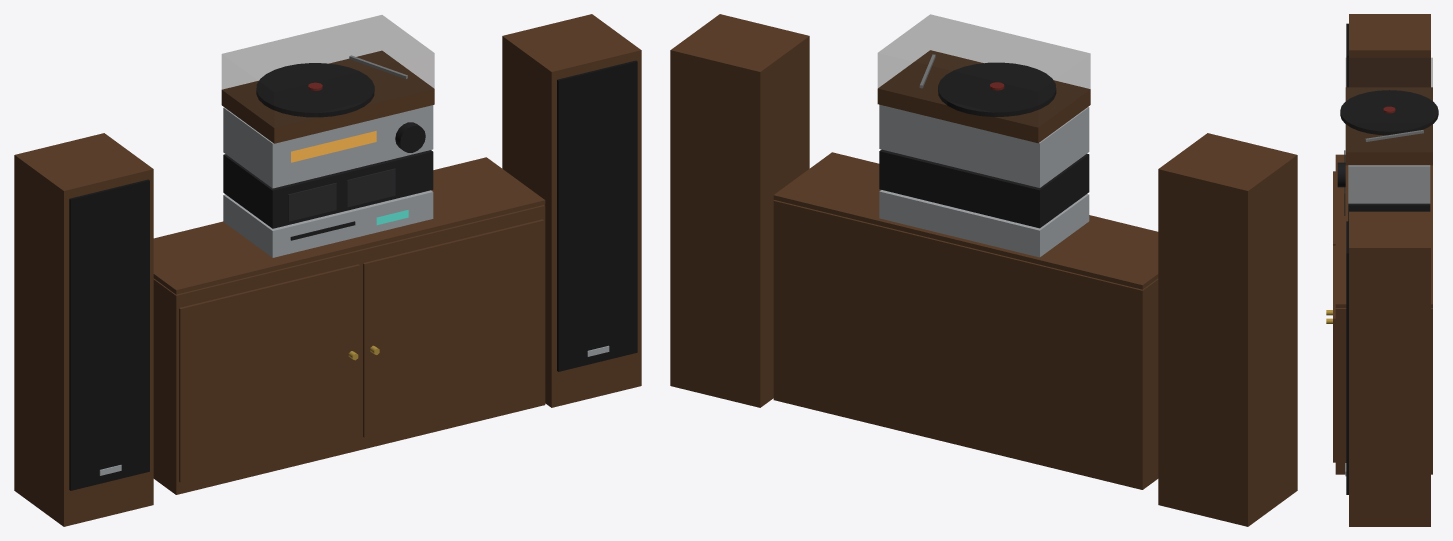
Rendered from stereo.glb.
3 renders of one model, left to right at view 1: azimuth 30°, elevation 25°; view 2: azimuth 150°, elevation 25°; view 3: azimuth 270°, elevation 25°, orthographic. The views are drawn at different scales.
Visible parts, largest first — view 1: stereo; view 2: stereo; view 3: stereo.
Boxes of the visible parts, <box> form: stereo: <box>14,14,641,526</box>; stereo: <box>670,14,1297,526</box>; stereo: <box>1326,14,1438,526</box>.
Bounding box in the file's own units: 5.4 × 3.44 × 1.09.
